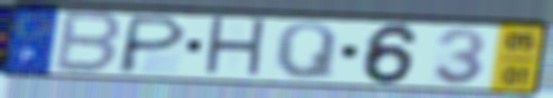3: (432, 25, 491, 87)
6: (357, 21, 425, 86)
B: (50, 8, 126, 76)
H: (200, 15, 270, 81)
P: (112, 12, 191, 76)
Q: (272, 19, 340, 82)
